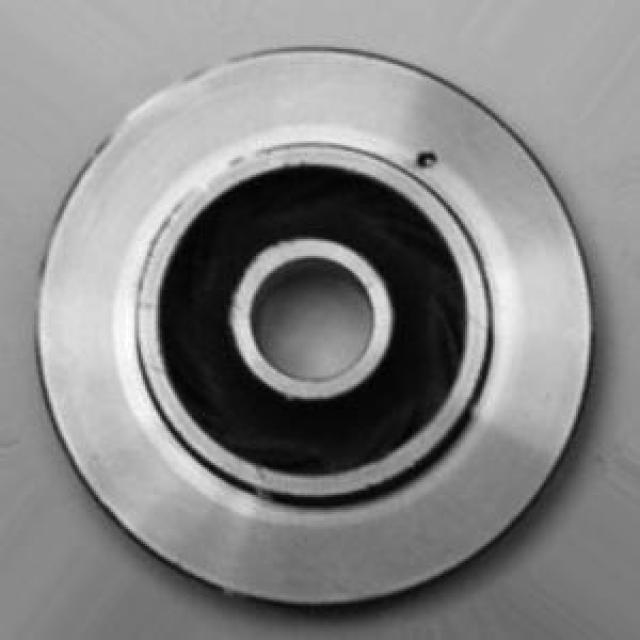Defect: (409, 144, 448, 182)
